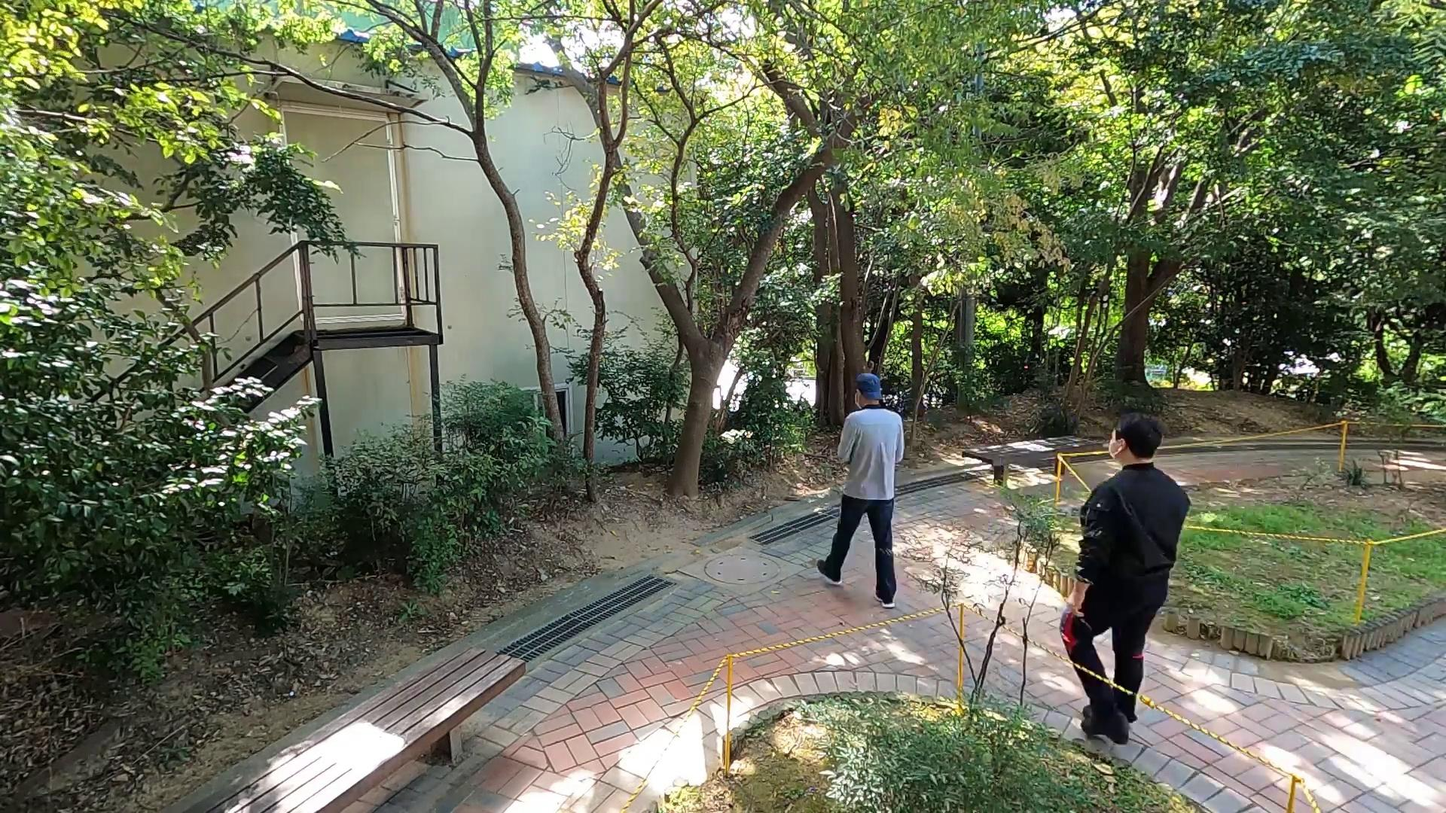person: (1052, 415, 1194, 755), (814, 371, 910, 612)
